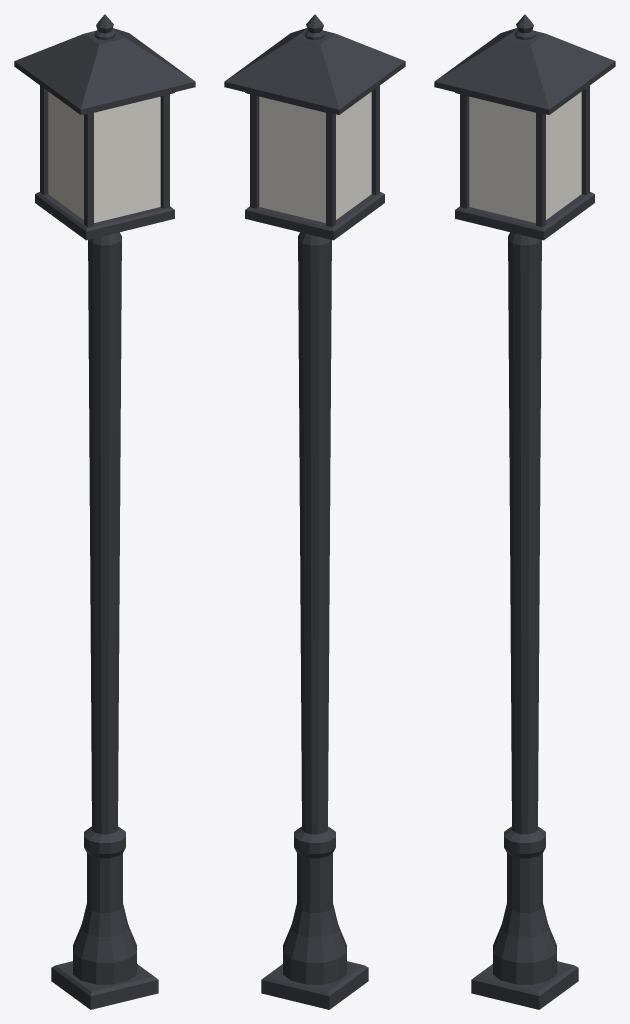
File: SM_Street_LanternLight_Black_01.gltf
3 renders of one model, left to right at view 1: azimuth 30°, elevation 25°; view 2: azimuth 150°, elevation 25°; view 3: azimuth 330°, elevation 25°, orthographic.
Parts seen in each view (by area): view 1: SM_Street_LanternLight_Black_01; view 2: SM_Street_LanternLight_Black_01; view 3: SM_Street_LanternLight_Black_01.
Boxes of the visible parts, x1,y1,x2,y2 form: SM_Street_LanternLight_Black_01: (14,14,195,1009); SM_Street_LanternLight_Black_01: (224,14,405,1009); SM_Street_LanternLight_Black_01: (434,14,615,1009).
Size of the model in its own units: 0.44 by 3.56 by 0.44.
Materials: 1 (1 with a texture image).
